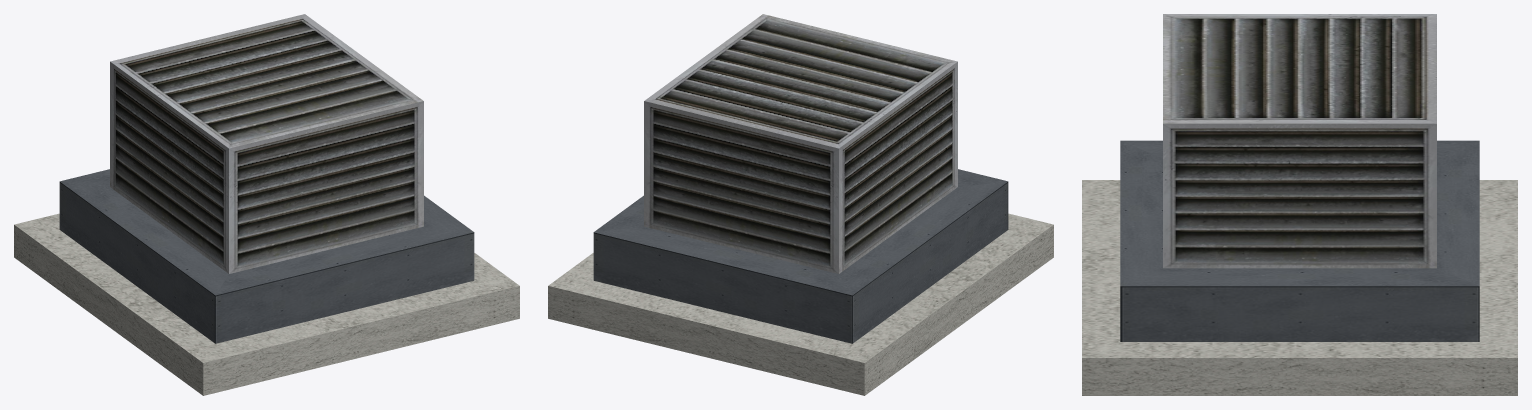
File: roof addon11.FBX
The picture shows the model from 3 angles, left to right: view 1: azimuth 30°, elevation 25°; view 2: azimuth 150°, elevation 25°; view 3: azimuth 270°, elevation 25°; orthographic projection. The views are drawn at different scales.
Parts seen in each view (by area): view 1: roof addon11; view 2: roof addon11; view 3: roof addon11.
Boxes of the visible parts, x1=… form: roof addon11: x1=14, y1=14, x2=519, y2=395; roof addon11: x1=548, y1=14, x2=1053, y2=395; roof addon11: x1=1082, y1=14, x2=1517, y2=395.
Size of the model in its own units: 9.87 by 6.16 by 10.22.
